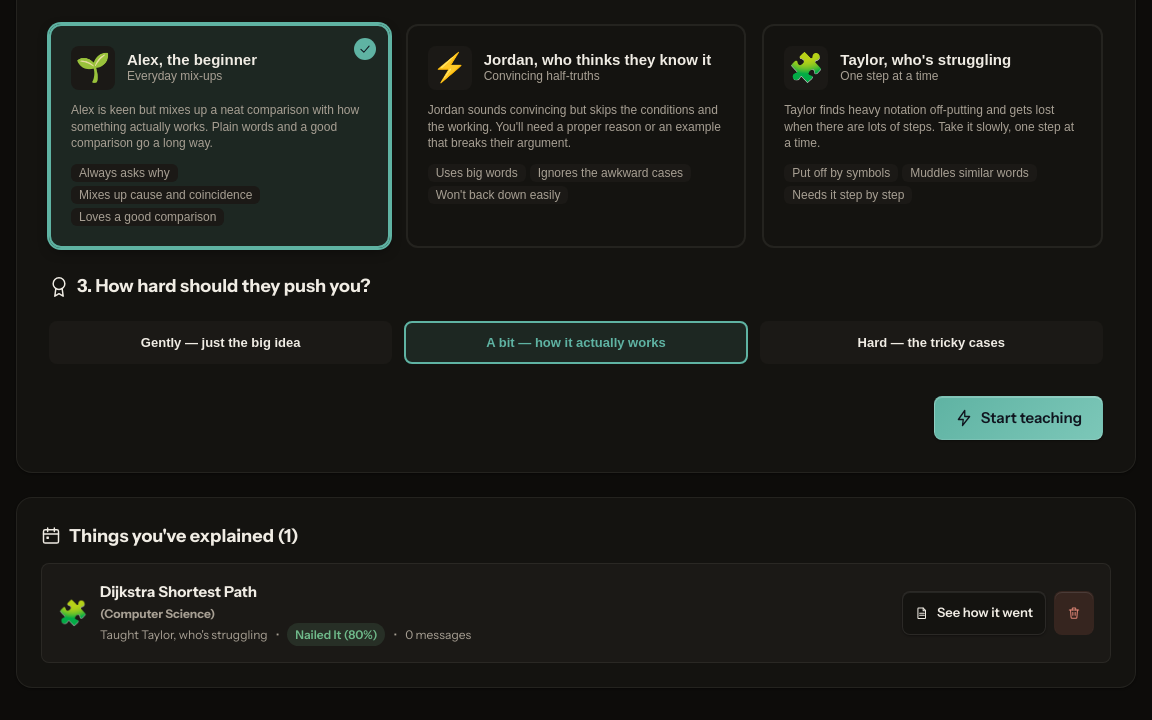
FeynmanHubView Component › renders past sessions list and allows deleting a session
The width and height of the screenshot is (1152, 720).
(page scrolled)
Expected: the text "Dijkstra Shortest Path (Computer Science)" is shown, x1=100 y1=582 x2=257 y2=621
Expected: the element with test id "session-row" is shown, x1=41 y1=563 x2=1111 y2=663
Click the button with test id "delete-session-btn": point(1074, 613) x1=1054 y1=591 x2=1094 y2=635
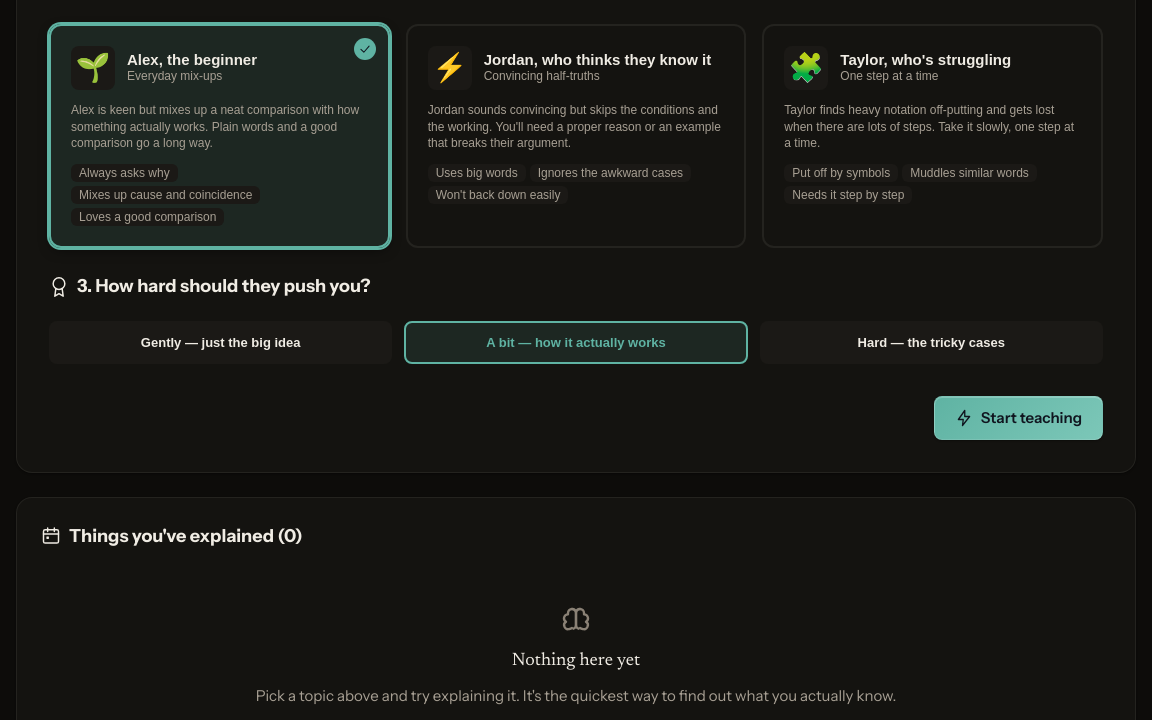
Expected: the text "Dijkstra Shortest Path" is gone
Expected: the element with test id "session-row" is gone
